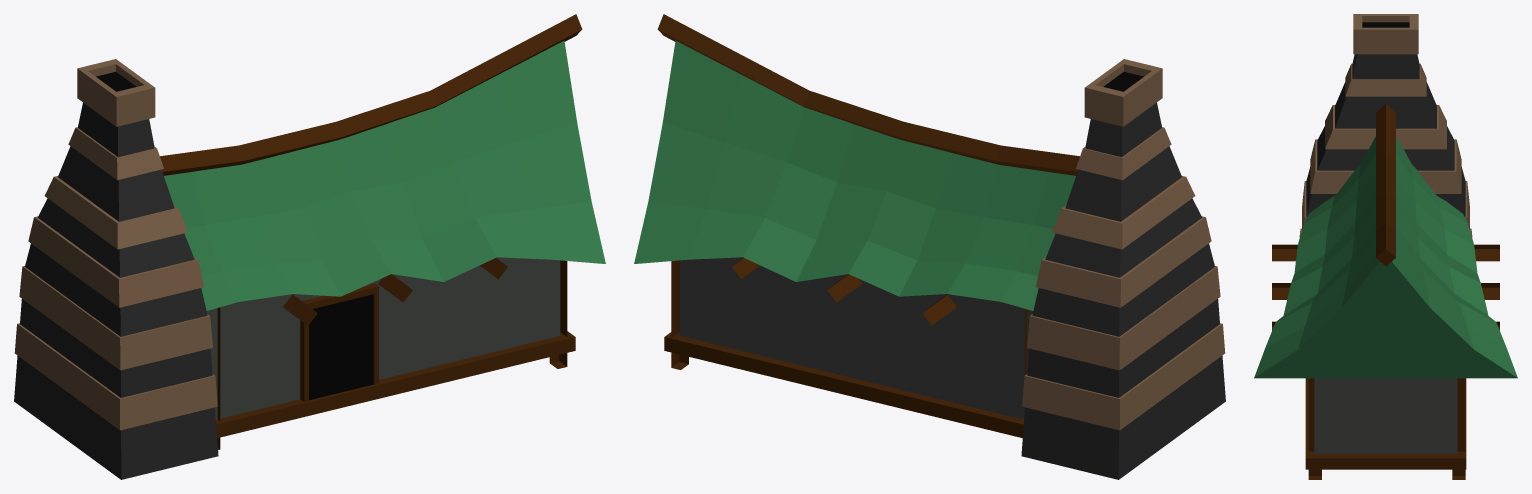
Rendered from Workshop.fbx.
3 views of the same model, side by side, from view 1: azimuth 30°, elevation 25°; view 2: azimuth 150°, elevation 25°; view 3: azimuth 270°, elevation 25° (orthographic). The views are drawn at different scales.
Visible parts, largest first — view 1: Куб; view 2: Куб; view 3: Куб.
Boxes of the visible parts, box(x1,y1,x2,y2) form: Куб: box(14, 14, 605, 479); Куб: box(634, 14, 1225, 479); Куб: box(1254, 14, 1517, 479).
Size of the model in its own units: 6.81 by 4.52 by 3.68.
